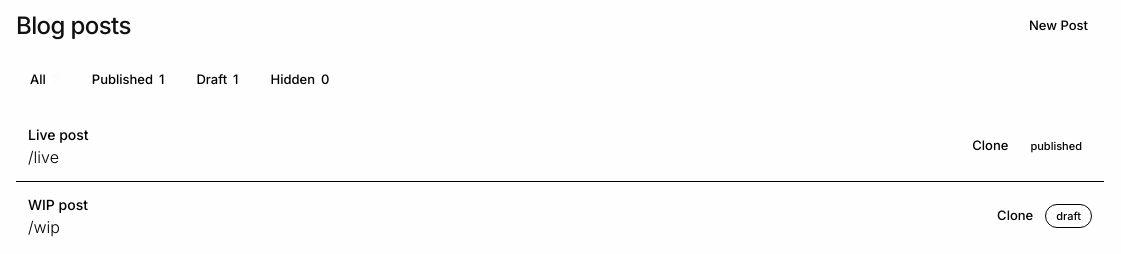
Test: BlogManagement › lists posts with one status pill each and filters via the API from view tabs
Expected: the text "Live post" is shown, [28,124,89,144]
Expected: the text "WIP post" is shown, [28,194,88,214]
Click the tab "Published 1" at x=128, y=80, box [78,64,178,96]
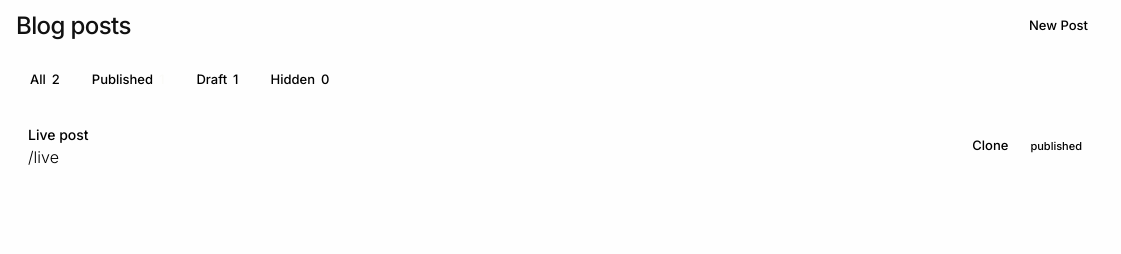
Expected: the text "Live post" is shown, [28,124,89,144]
Expected: the button "WIP post" is gone
